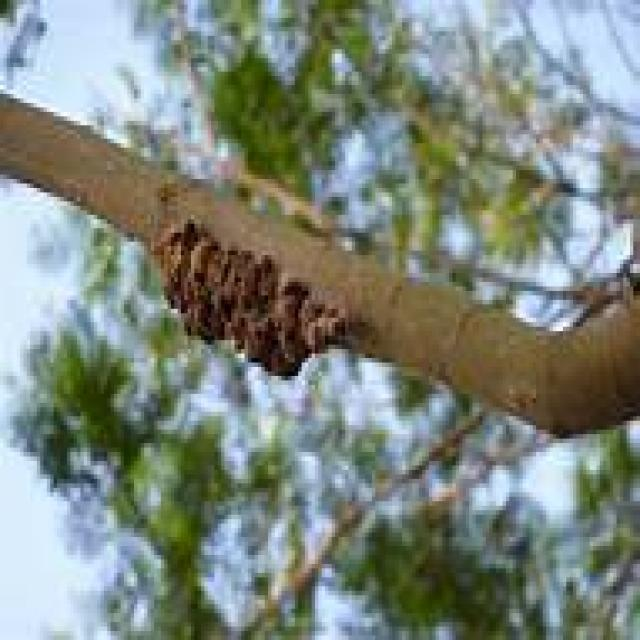Tuberculosis: (161, 219, 345, 381)
